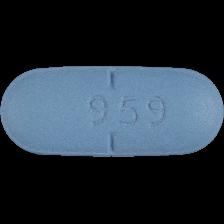66116-516: (0, 0, 224, 224)
